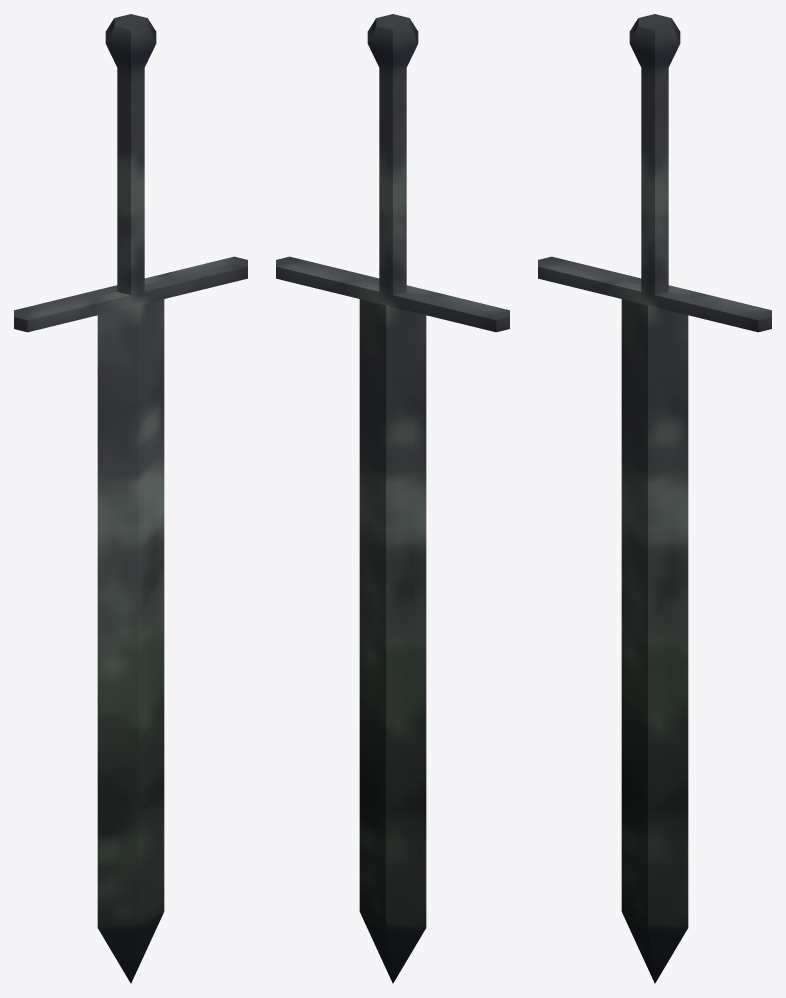
File: SM_KnightRubble1.fbx
3 renders of one model, left to right at view 1: azimuth 30°, elevation 25°; view 2: azimuth 150°, elevation 25°; view 3: azimuth 330°, elevation 25°, orthographic.
Parts seen in each view (by area): view 1: Sword; view 2: Sword; view 3: Sword.
Part boxes in pixels (x1,y1,x2,y2): Sword: [14, 14, 247, 983]; Sword: [276, 14, 509, 983]; Sword: [538, 14, 771, 983].
Size of the model in its own units: 112 by 439 by 20.86.
